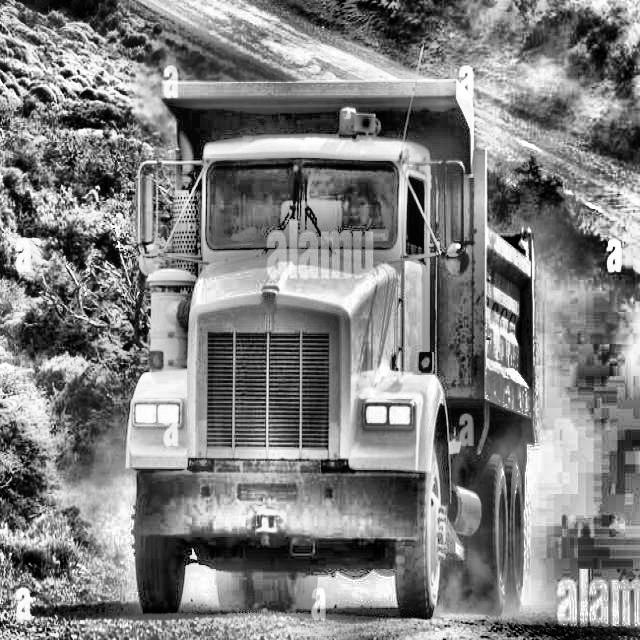dump_truck: (110, 51, 533, 627)
